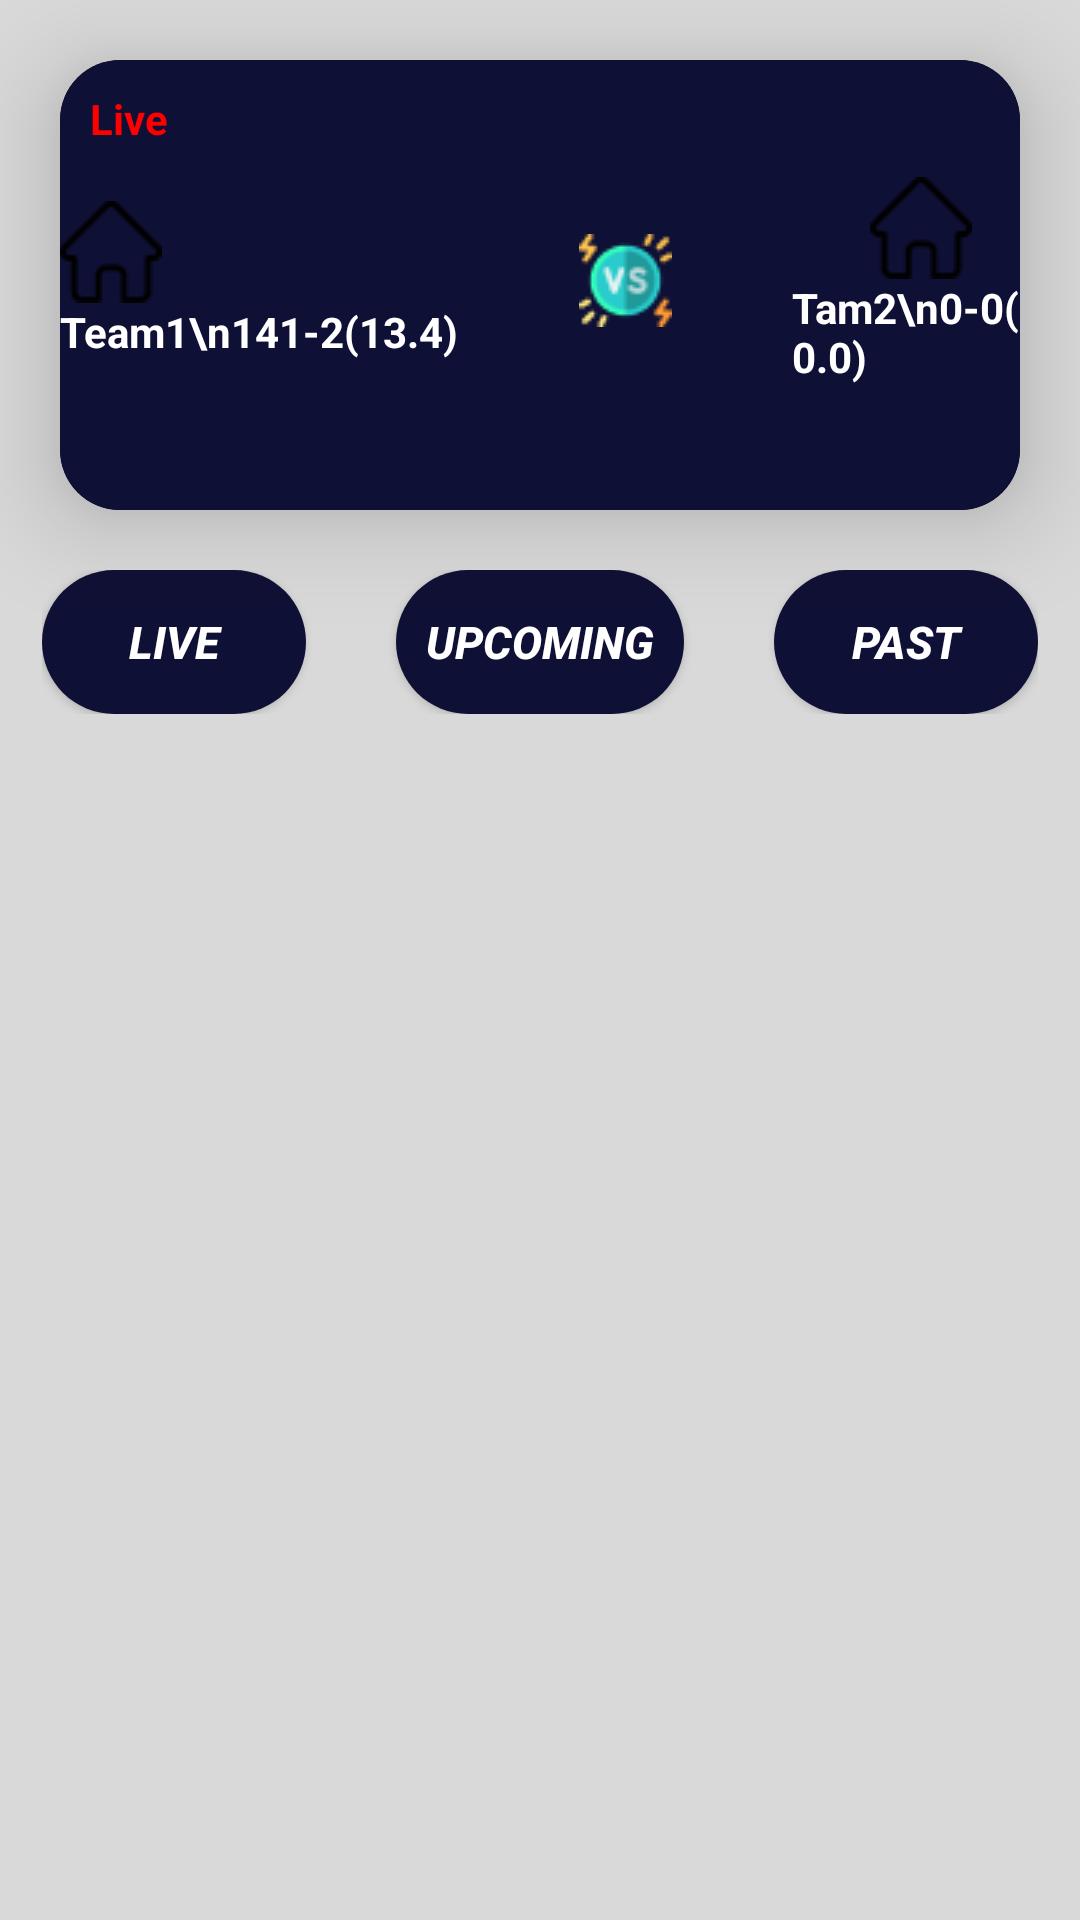

Icon bounding boxes for this 1080 × 1920 phone screenshot, format (x1,y1,x2,y2):
navhome: (870,177,972,279), (60,201,162,303)
